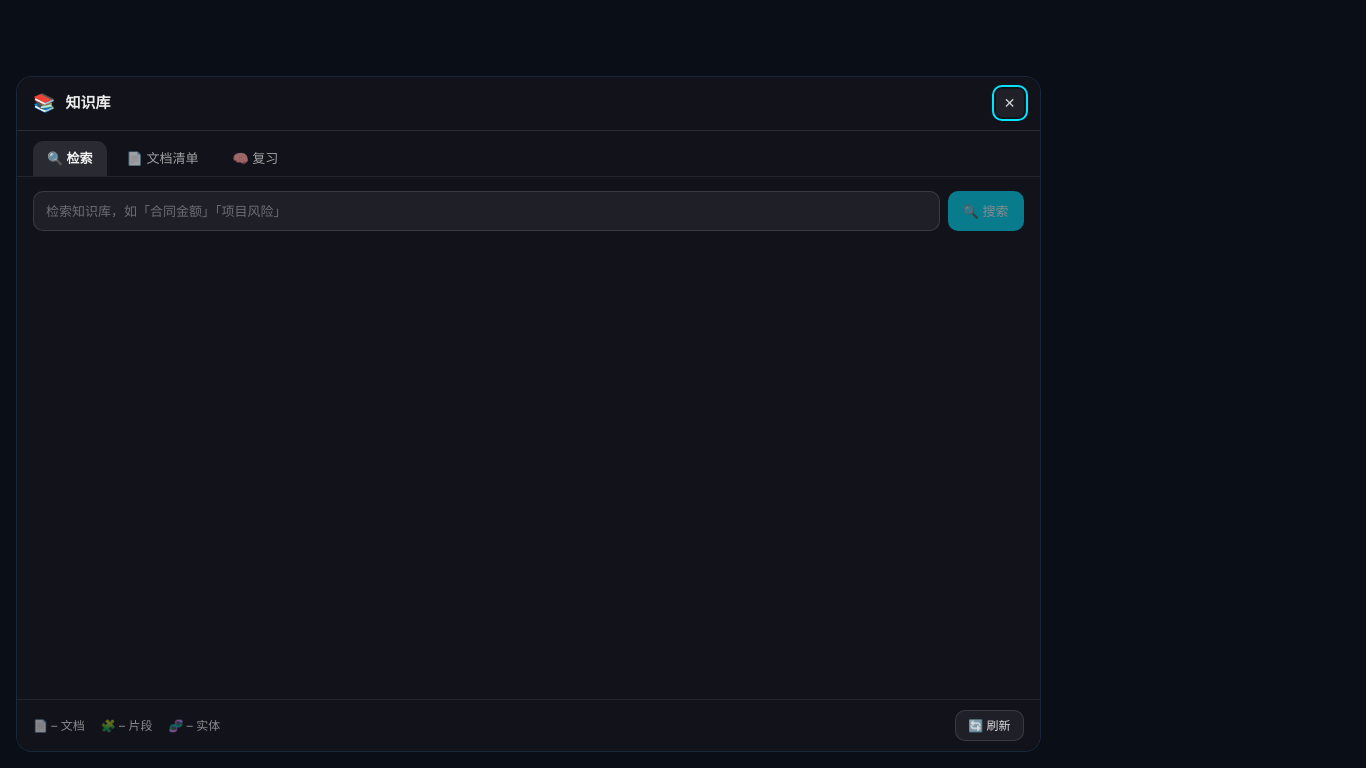
Test: KnowledgePanel 知识库面板（DeepTutor 精华前端承载） › 检索空结果 → 诚实 message（不编造）
Type "不存在的东西" into the field named "知识库检索词" at (486, 211), box top-left (33, 191), bottom-right (940, 231)
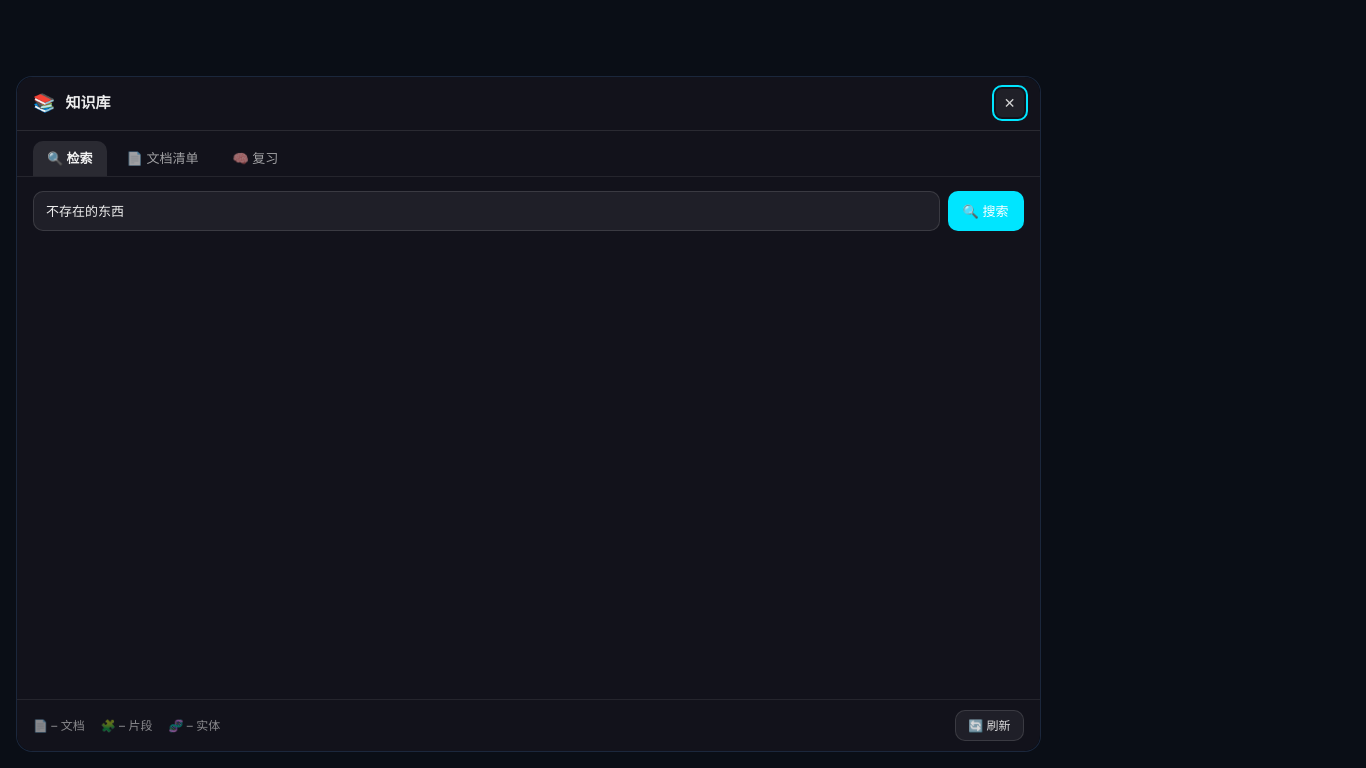
Click the button "🔍 搜索" at (986, 211), box top-left (948, 191), bottom-right (1024, 231)
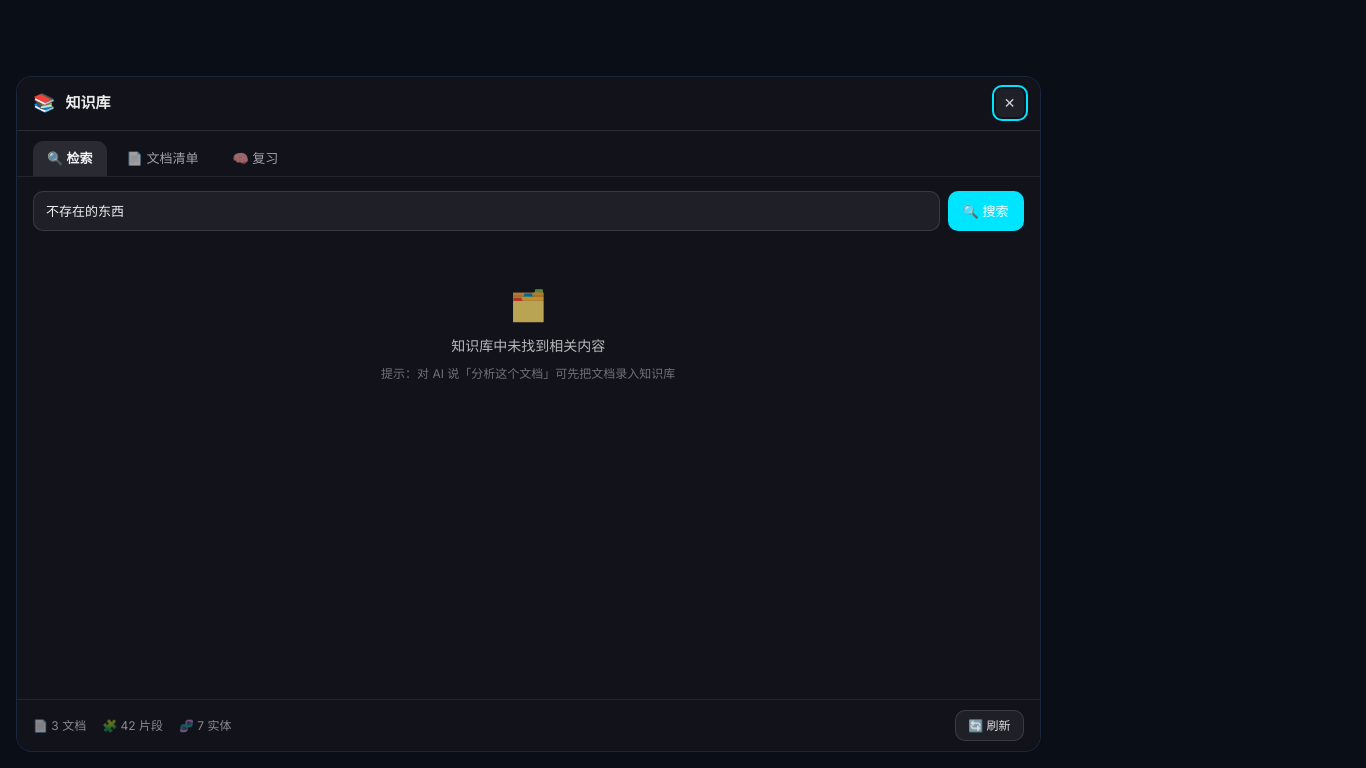
Expected: the text "知识库中未找到相关内容" is shown, top-left (451, 335), bottom-right (605, 358)
